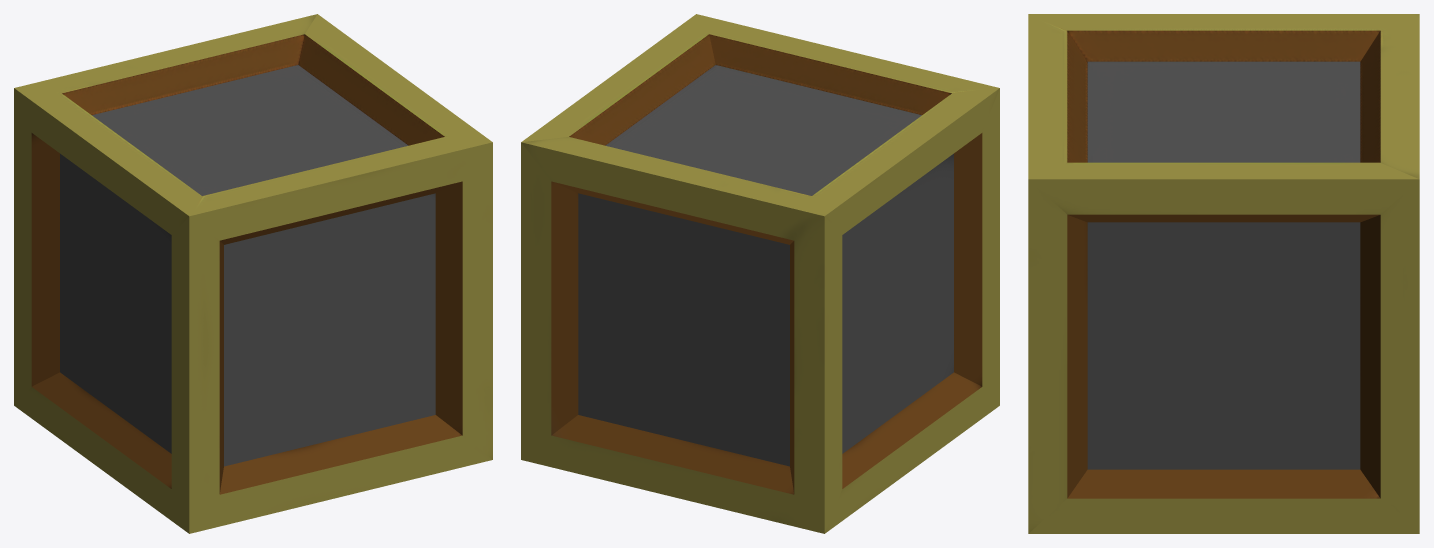
File: crate.fbx
The picture shows the model from 3 angles, left to right: view 1: azimuth 30°, elevation 25°; view 2: azimuth 150°, elevation 25°; view 3: azimuth 270°, elevation 25°; orthographic projection. The views are drawn at different scales.
Visible parts, largest first — view 1: Cube; view 2: Cube; view 3: Cube.
Boxes of the visible parts, box(x1,y1,x2,y2) form: Cube: box(14, 14, 492, 533); Cube: box(521, 14, 999, 533); Cube: box(1028, 14, 1419, 533).
Size of the model in its own units: 128 by 128 by 128.
Materials: 1 (1 with a texture image).
